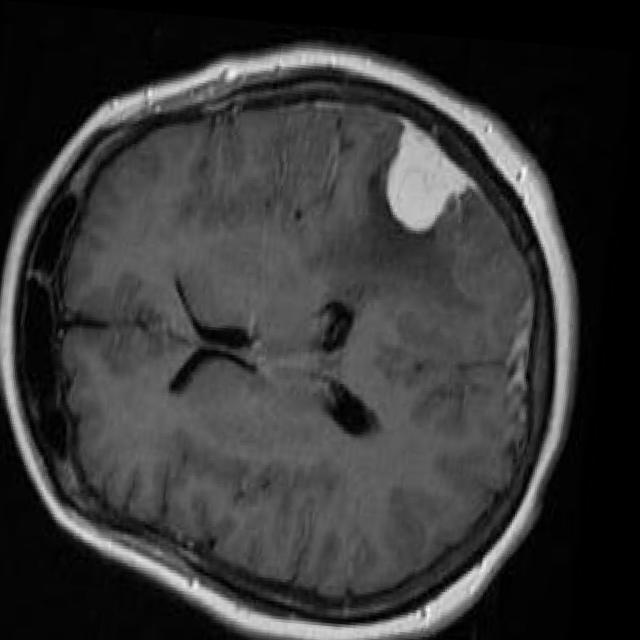Tumor: (388, 110, 472, 224)
